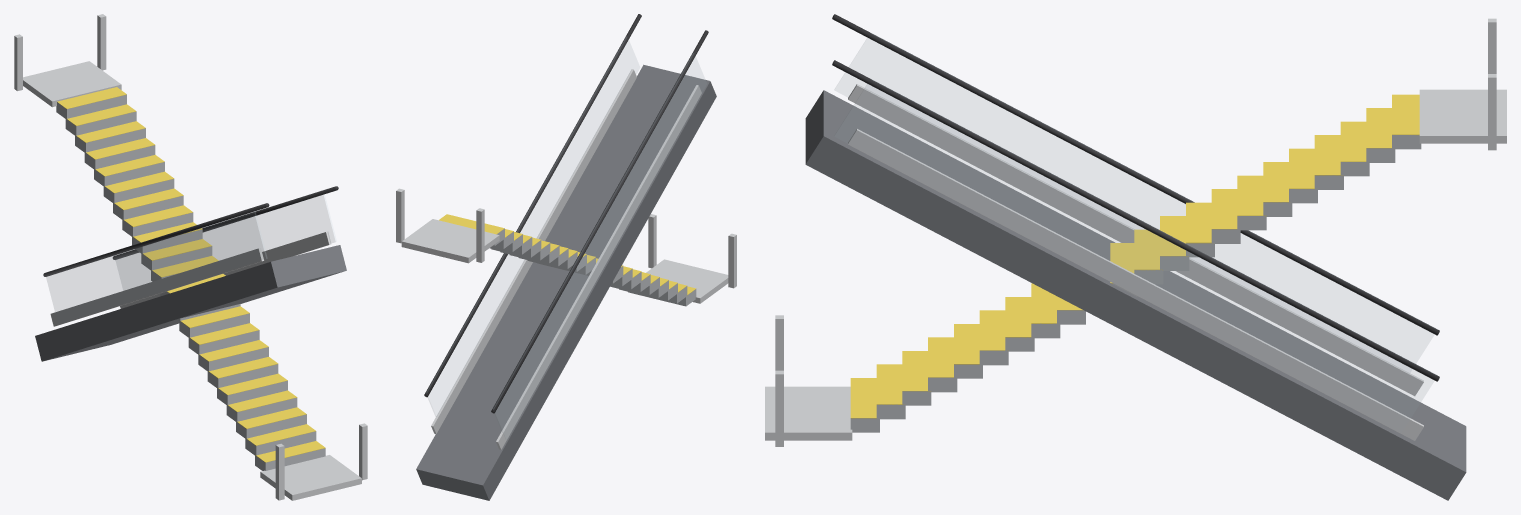
File: escalator.glb
3 views of the same model, side by side, from view 1: azimuth 30°, elevation 25°; view 2: azimuth 150°, elevation 25°; view 3: azimuth 270°, elevation 25° (orthographic). The views are drawn at different scales.
Visible parts, largest first — view 1: Balustrade_-0.75, Truss, Balustrade_0.75, Skirt_-0.75, CombBot, CombTop, Skirt_0.75, Handrail_-0.75, Handrail_0.75, Step_18, Step_16, Step_20 (+40 smaller); view 2: Truss, Balustrade_-0.75, Balustrade_0.75, Skirt_-0.75, Skirt_0.75, CombTop, Handrail_-0.75, Handrail_0.75, CombBot, EndPost_-0.9, EndPostT_-0.9, EndPostT_0.9 (+2 smaller); view 3: Truss, Balustrade_0.75, Balustrade_-0.75, Skirt_0.75, Skirt_-0.75, CombTop, Handrail_0.75, CombBot, Handrail_-0.75, StepEdge_21, StepEdge_15, StepEdge_18 (+16 smaller).
Boxes of the visible parts, x1,y1,x2,y2 form: Balustrade_-0.75: (46, 212, 266, 323); Truss: (35, 245, 346, 361); Balustrade_0.75: (116, 195, 336, 289); Skirt_-0.75: (50, 248, 263, 326); CombBot: (260, 455, 361, 500); CombTop: (23, 61, 121, 107); Skirt_0.75: (120, 231, 331, 308); Handrail_-0.75: (43, 203, 269, 276); Handrail_0.75: (112, 186, 338, 259); Step_18: (84, 145, 155, 169); Step_16: (103, 179, 174, 203); Step_20: (65, 111, 136, 135); Truss: (416, 64, 716, 500); Balustrade_-0.75: (493, 53, 706, 439); Balustrade_0.75: (426, 37, 639, 416); Skirt_-0.75: (496, 85, 701, 449); Skirt_0.75: (431, 69, 636, 433); CombTop: (401, 219, 499, 263); Handrail_-0.75: (491, 30, 708, 413); Handrail_0.75: (424, 14, 641, 397); CombBot: (646, 259, 728, 303); EndPost_-0.9: (728, 233, 736, 288); EndPostT_-0.9: (476, 208, 484, 262); EndPostT_0.9: (396, 188, 404, 243); Truss: (805, 90, 1466, 500); Balustrade_0.75: (835, 79, 1436, 432); Balustrade_-0.75: (835, 33, 1436, 372); Skirt_0.75: (848, 129, 1423, 440); Skirt_-0.75: (848, 84, 1423, 396); CombTop: (1419, 89, 1506, 143); Handrail_0.75: (832, 60, 1439, 381); CombBot: (765, 386, 852, 440); Handrail_-0.75: (832, 14, 1439, 335); StepEdge_21: (1392, 94, 1419, 135); StepEdge_15: (1237, 175, 1266, 216); StepEdge_18: (1314, 135, 1343, 175).
Bounding box in the file's own units: 1.92 × 6.68 × 10.19.
